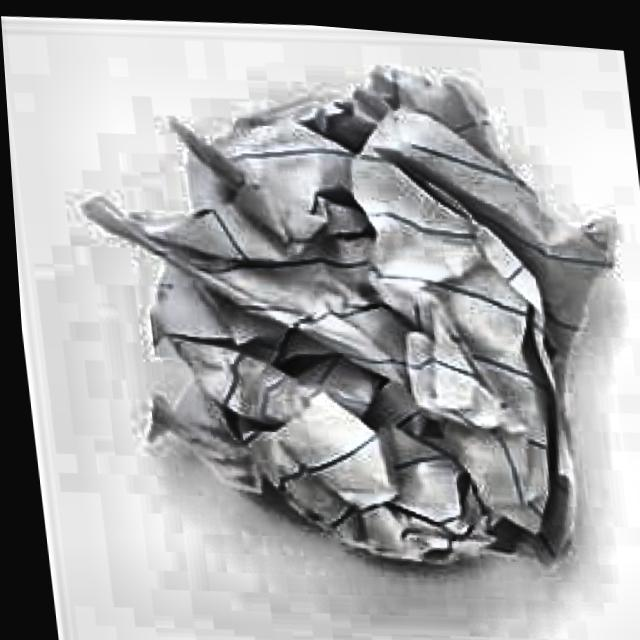Paper: (50, 18, 640, 620)
